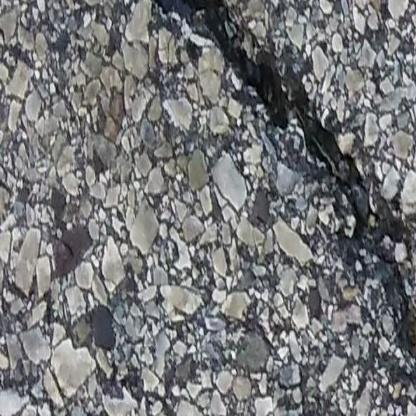Cracks: (133, 0, 416, 364)
